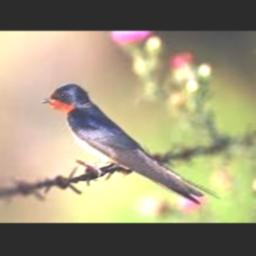Swallow: (42, 85, 220, 205)
